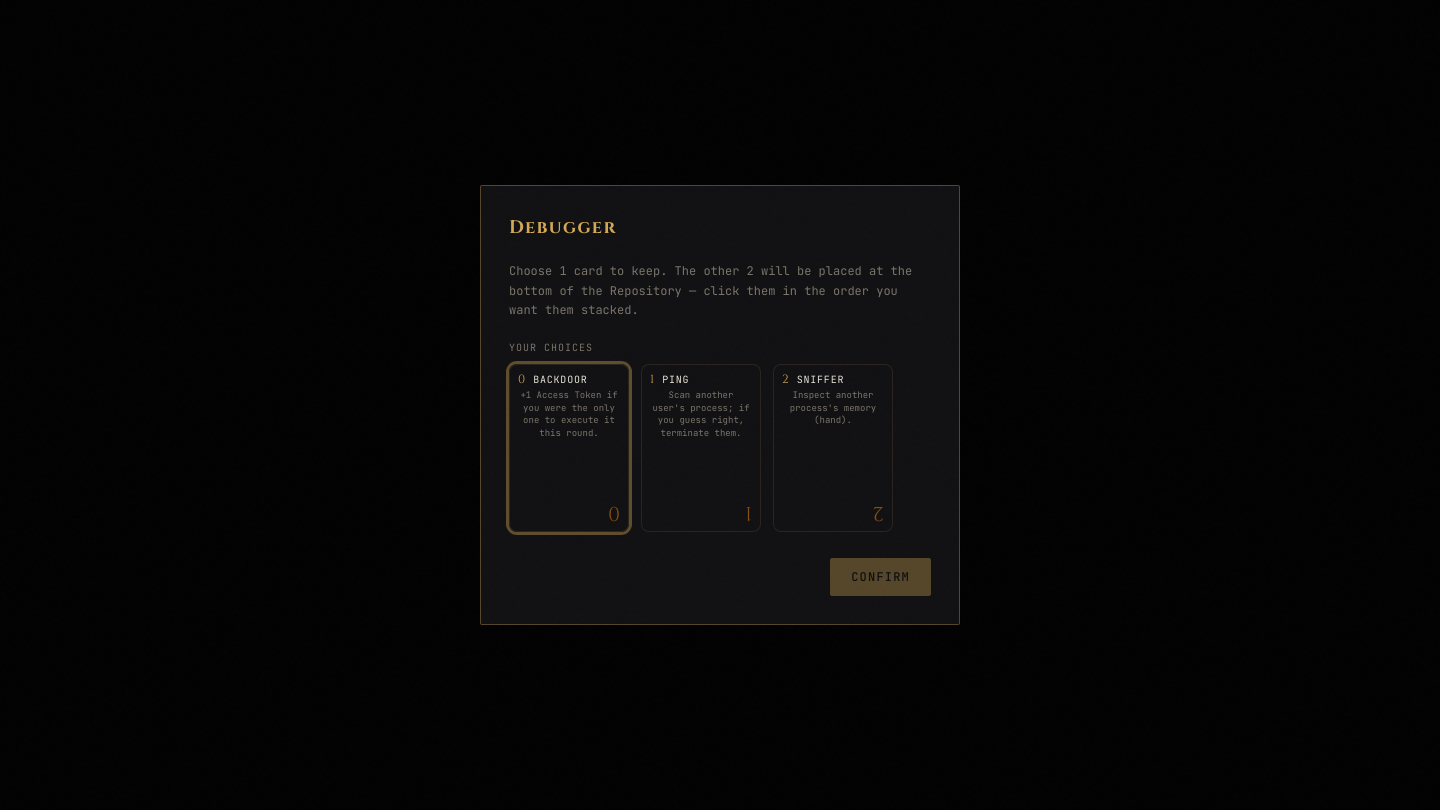
Test: DebuggerModal › Confirm button is disabled until keep and return order are selected
Expected: the button "Confirm" is disabled, [830,558,931,596]
// Select keep card — click spy (first card).
Click the button with test id "card" that starts with "BACKDOOR" at (569, 448), box [509,364,629,532]
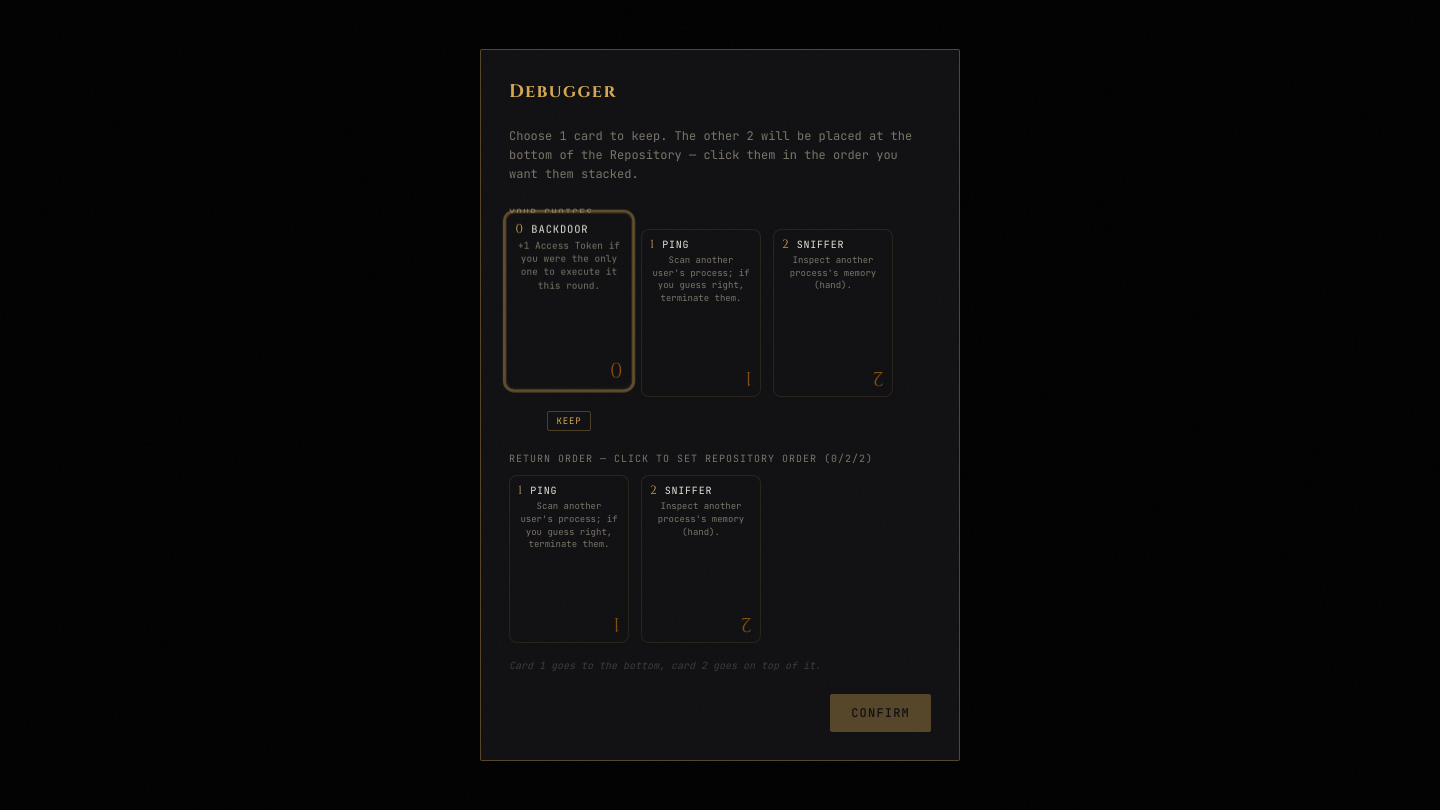
Expected: the button "Confirm" is disabled, [830,694,931,732]
Click the 4th button with test id "card" at (569, 559), box [509,475,629,643]
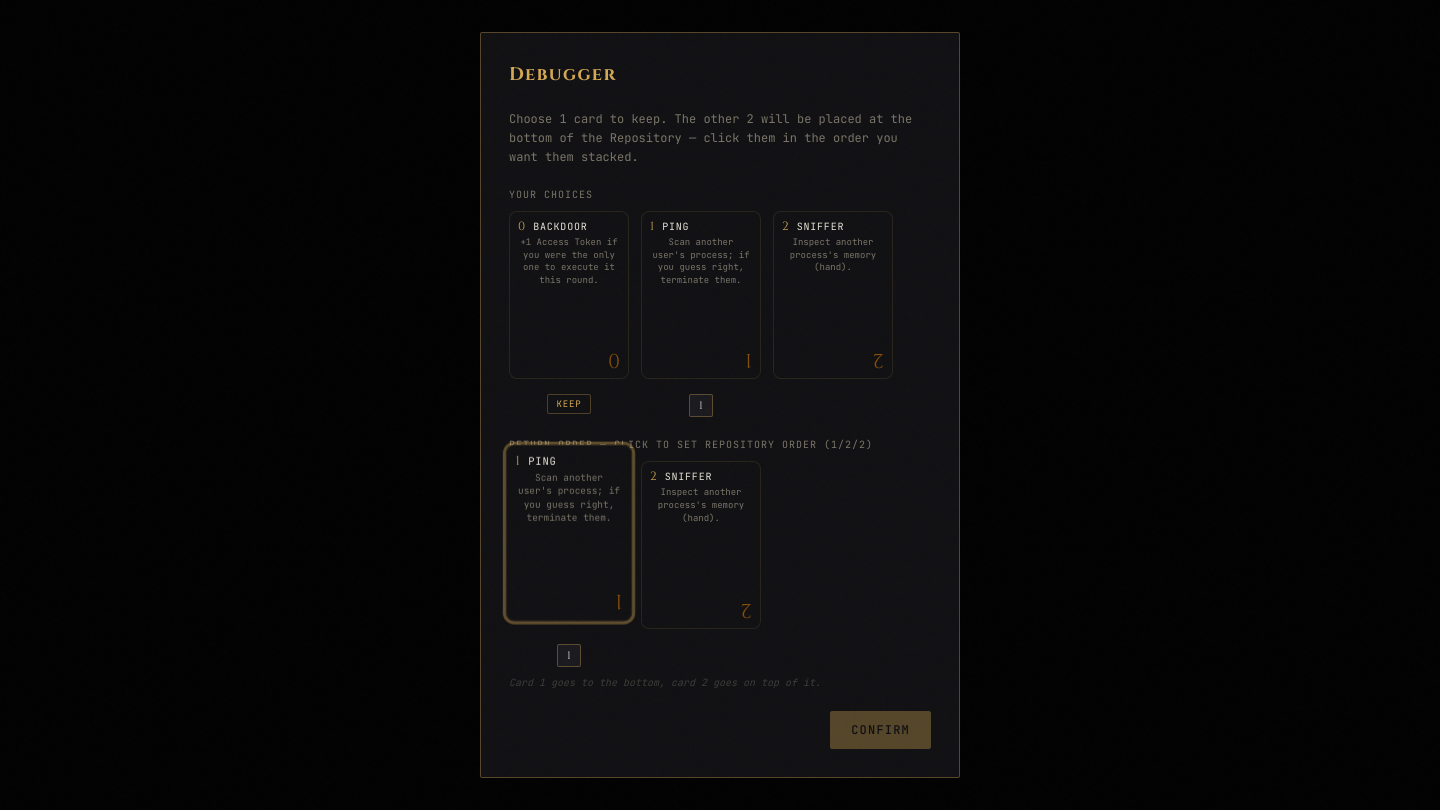
Expected: the button "Confirm" is disabled, [830,711,931,749]
Click the 5th button with test id "card" at (701, 545), box [641,461,761,629]
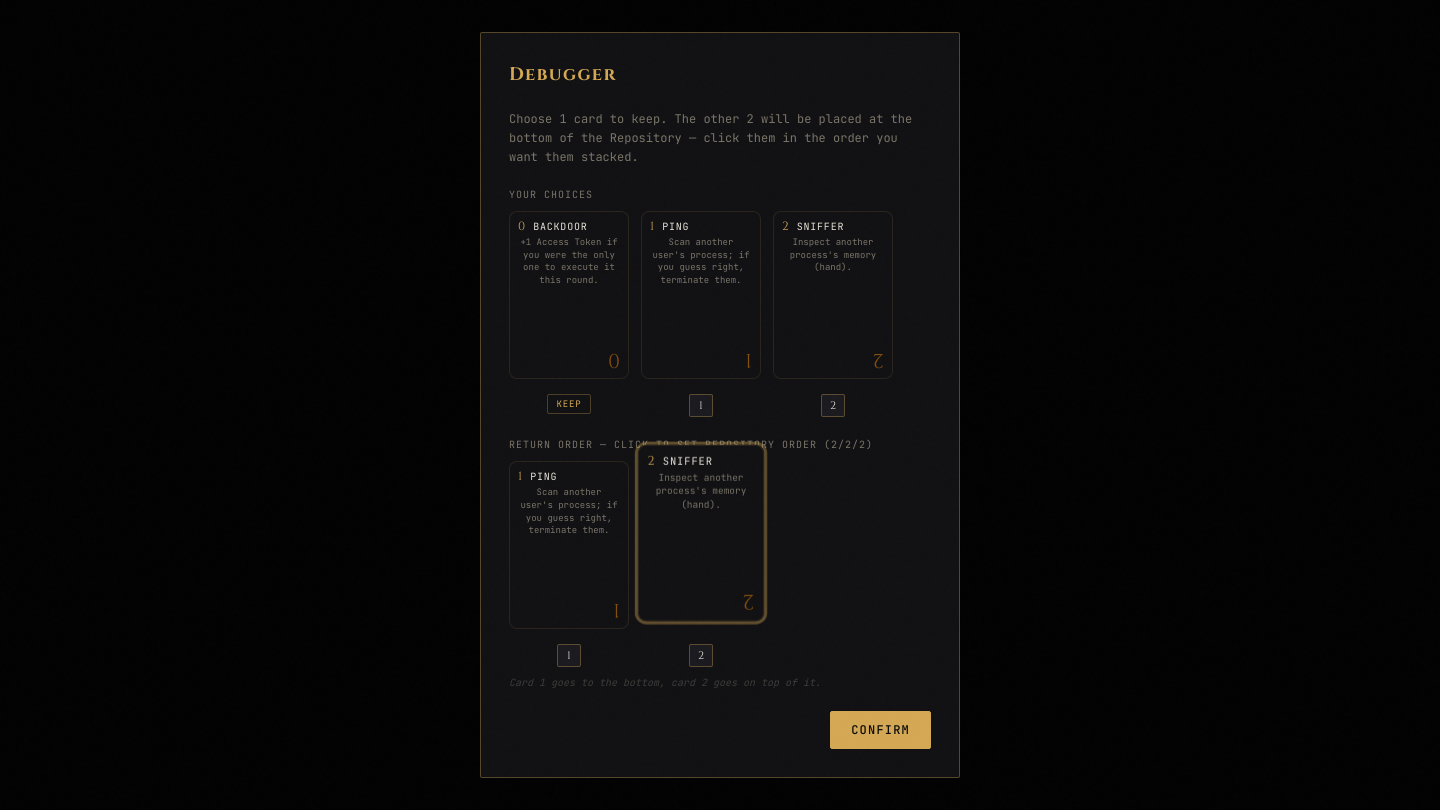
Now the button "Confirm" is enabled, box [830,711,931,749]
